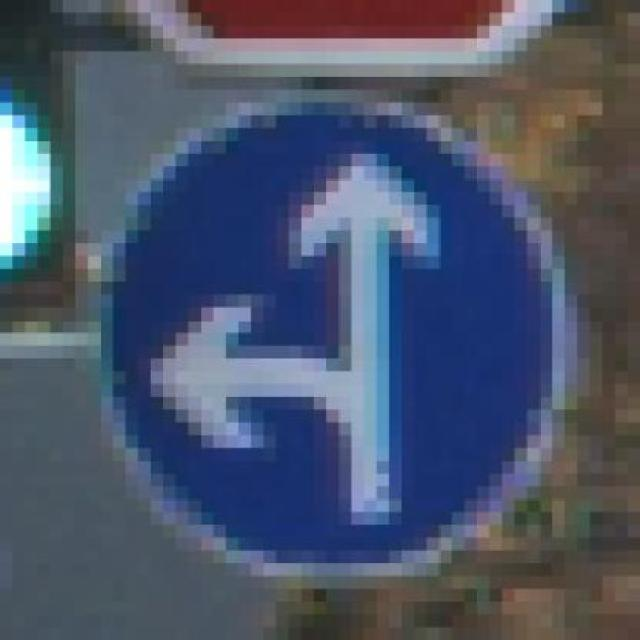Go straight or turn left: (75, 77, 590, 601)
